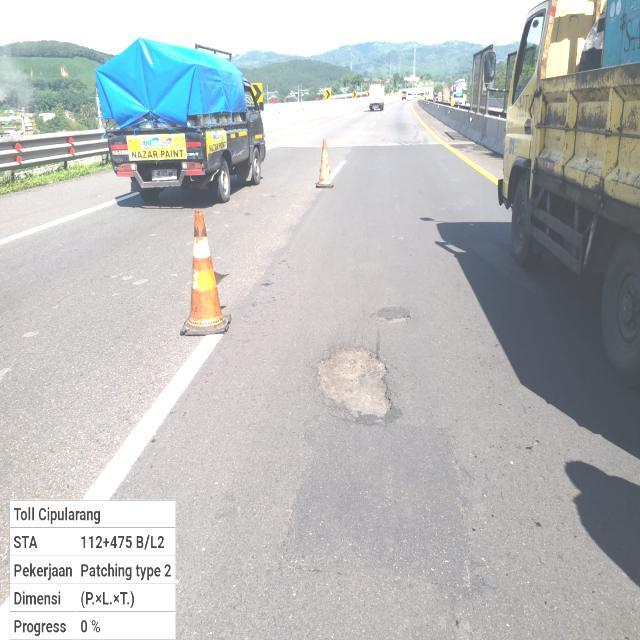Buraco: (311, 343, 396, 426), (367, 311, 413, 327)
